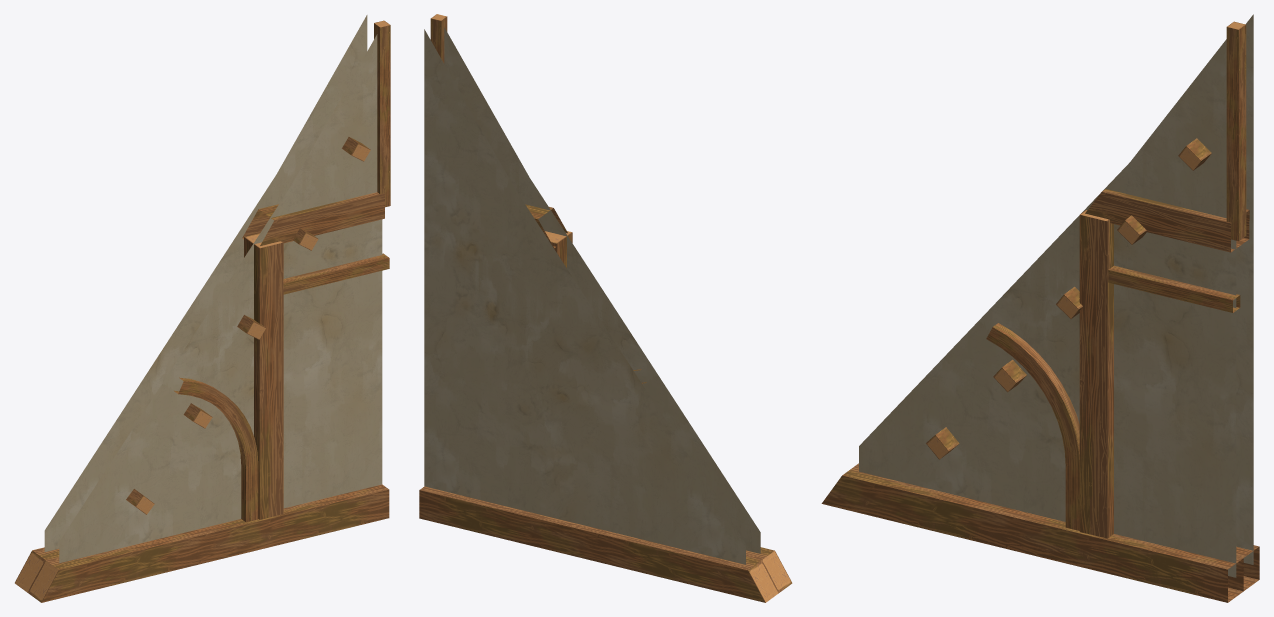
The model's file is Roof_Front_Brick6_Half_L.gltf.
3 views of the same model, side by side, from view 1: azimuth 30°, elevation 25°; view 2: azimuth 150°, elevation 25°; view 3: azimuth 330°, elevation 25° (orthographic). The views are drawn at different scales.
Visible parts, largest first — view 1: Roof_Front_Brick6_Half_L; view 2: Roof_Front_Brick6_Half_L; view 3: Roof_Front_Brick6_Half_L.
Boxes of the visible parts, x1,y1,x2,y2 form: Roof_Front_Brick6_Half_L: (15, 15, 390, 602); Roof_Front_Brick6_Half_L: (419, 14, 792, 602); Roof_Front_Brick6_Half_L: (821, 14, 1259, 602).
Size of the model in its own units: 3.41 by 4.52 by 0.4896.
Materials: 2 (2 with a texture image).
